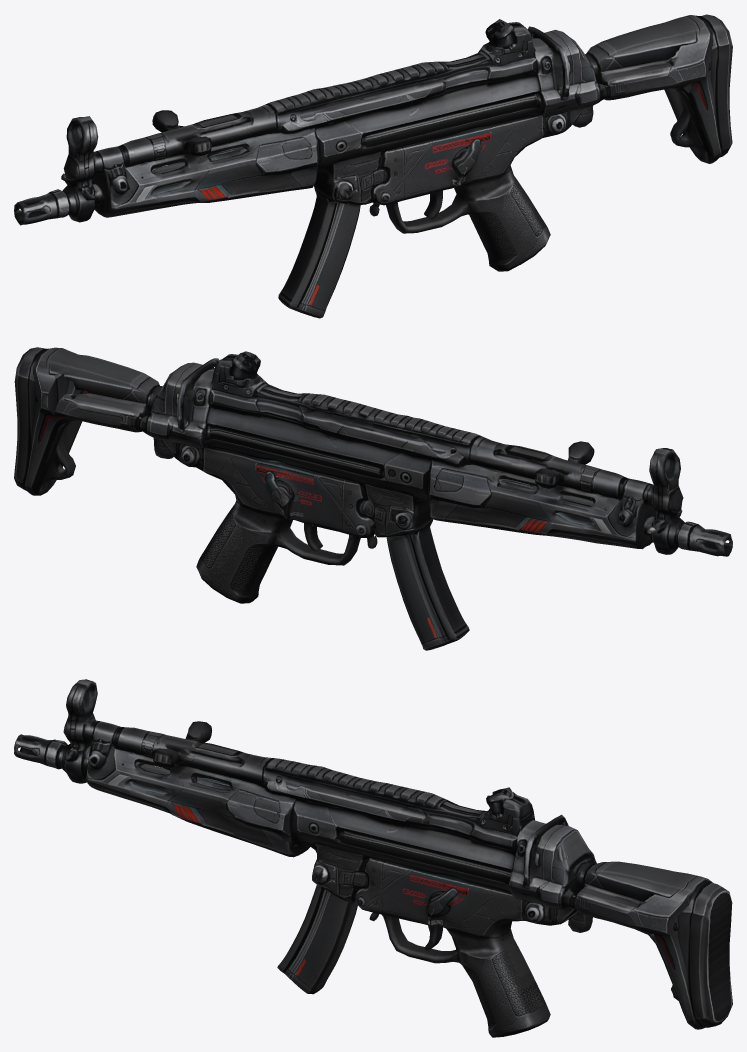
File: tripo_convert_e90ad749-5af2-44ff-99d1-3295507f51ea.fbx
3 views of the same model, one above another, from view 1: azimuth 30°, elevation 25°; view 2: azimuth 150°, elevation 25°; view 3: azimuth 330°, elevation 25° (orthographic).
Visible parts, largest first — view 1: tripo_node_e90ad749; view 2: tripo_node_e90ad749; view 3: tripo_node_e90ad749.
Part boxes in pixels (bbox=[...]): tripo_node_e90ad749: bbox=[14, 14, 732, 318]; tripo_node_e90ad749: bbox=[14, 347, 732, 650]; tripo_node_e90ad749: bbox=[14, 679, 732, 1037].
Size of the model in its own units: 97.92 by 10.89 by 33.62.
Materials: 1 (1 with a texture image).
